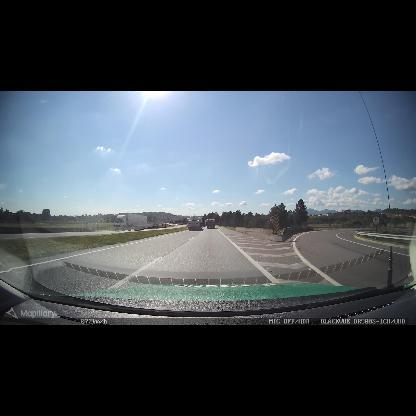O-MP: (273, 213, 280, 232)
R-19: (373, 216, 380, 225), (269, 215, 273, 223)
